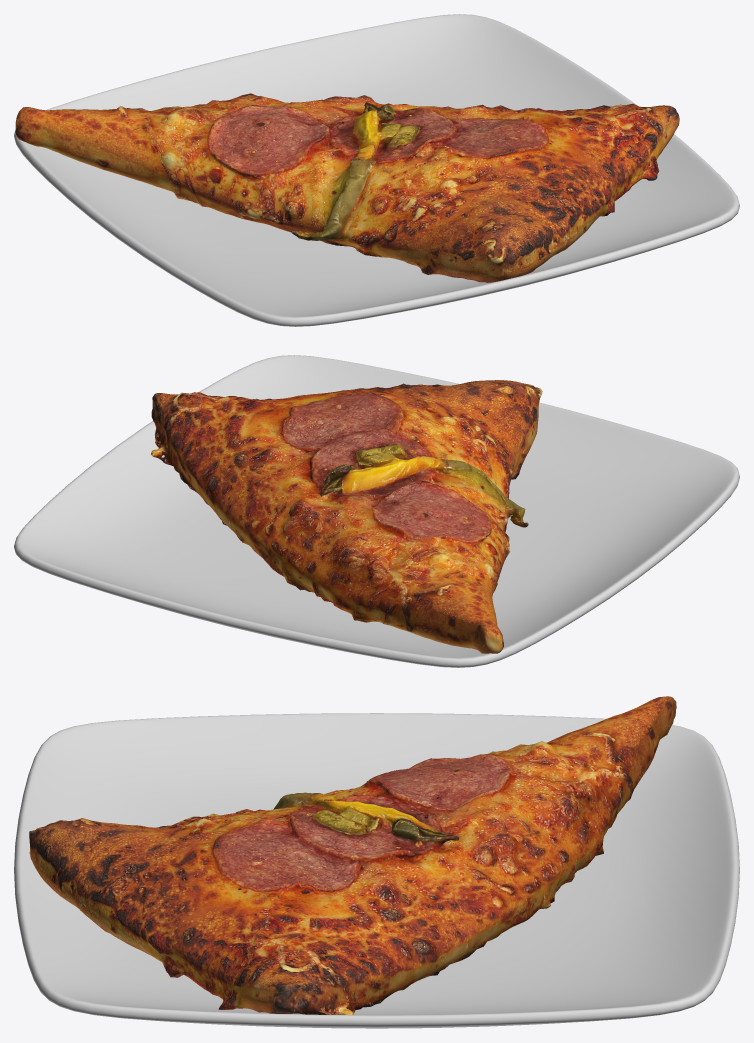
3 views of the same model, one above another, from view 1: azimuth 30°, elevation 25°; view 2: azimuth 150°, elevation 25°; view 3: azimuth 270°, elevation 25° (orthographic). The views are drawn at different scales.
Parts seen in each view (by area): view 1: cgaxis_models_56_16; view 2: cgaxis_models_56_16; view 3: cgaxis_models_56_16.
Part boxes in pixels (x1=…): cgaxis_models_56_16: x1=14, y1=14, x2=739, y2=326; cgaxis_models_56_16: x1=14, y1=355, x2=739, y2=667; cgaxis_models_56_16: x1=14, y1=696, x2=739, y2=1028.
Size of the model in its own units: 0.0933 by 0.0168 by 0.0932.
2 materials, 1 textured.
